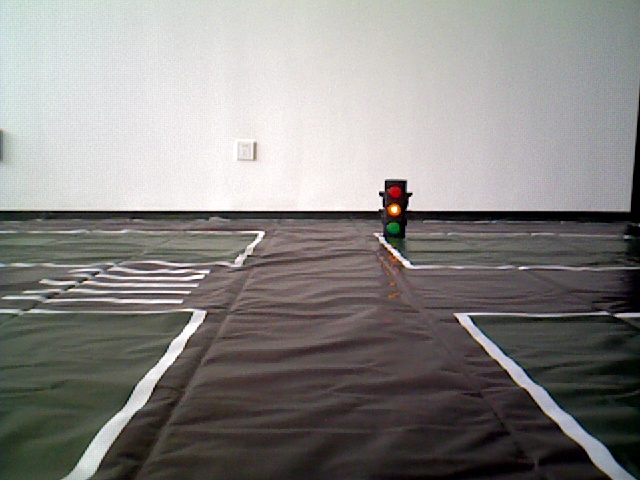yellow: (381, 176, 408, 245)
